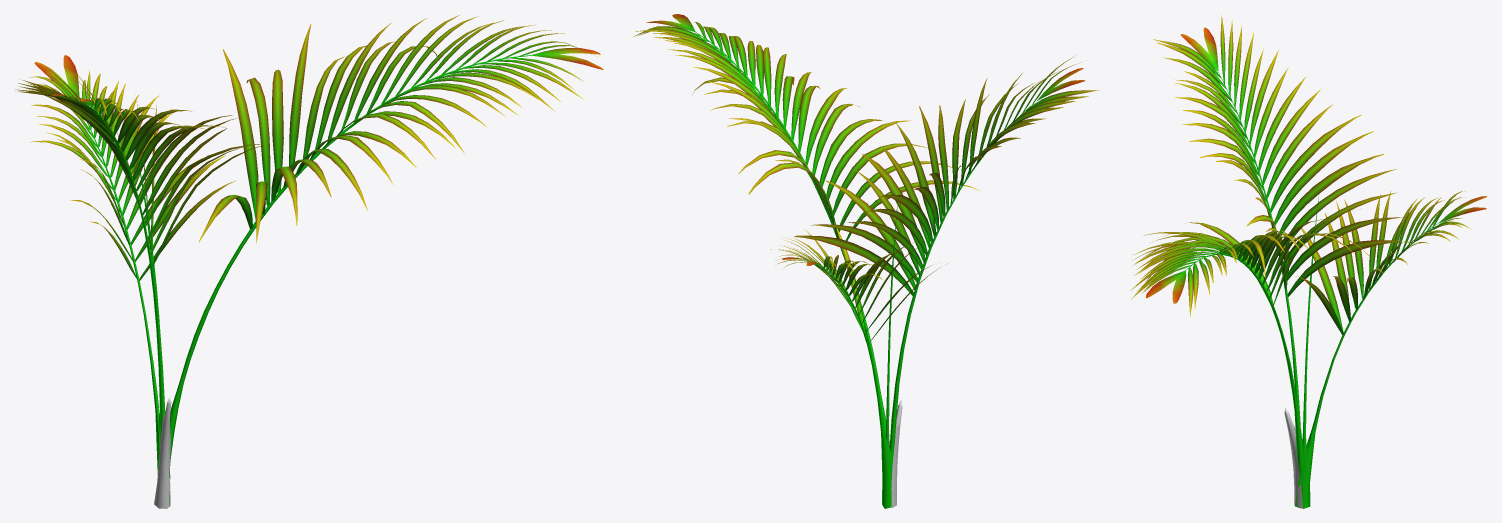
File: Alexandra Palm_LOD2_Var1_ukgkcilia.fbx
3 views of the same model, side by side, from view 1: azimuth 30°, elevation 25°; view 2: azimuth 150°, elevation 25°; view 3: azimuth 270°, elevation 25° (orthographic). The views are drawn at different scales.
Parts seen in each view (by area): view 1: _9gqi_Var1_LOD2; view 2: _9gqi_Var1_LOD2; view 3: _9gqi_Var1_LOD2.
Boxes of the visible parts, <box> form: _9gqi_Var1_LOD2: <box>15,15,603,508</box>; _9gqi_Var1_LOD2: <box>633,14,1099,508</box>; _9gqi_Var1_LOD2: <box>1130,15,1486,508</box>.
Size of the model in its own units: 75.65 by 63.75 by 50.27.
